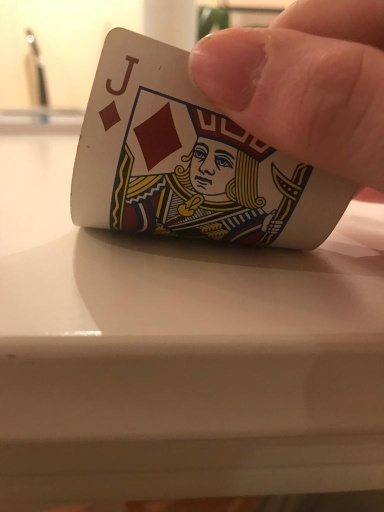Dj: (96, 50, 140, 136)
